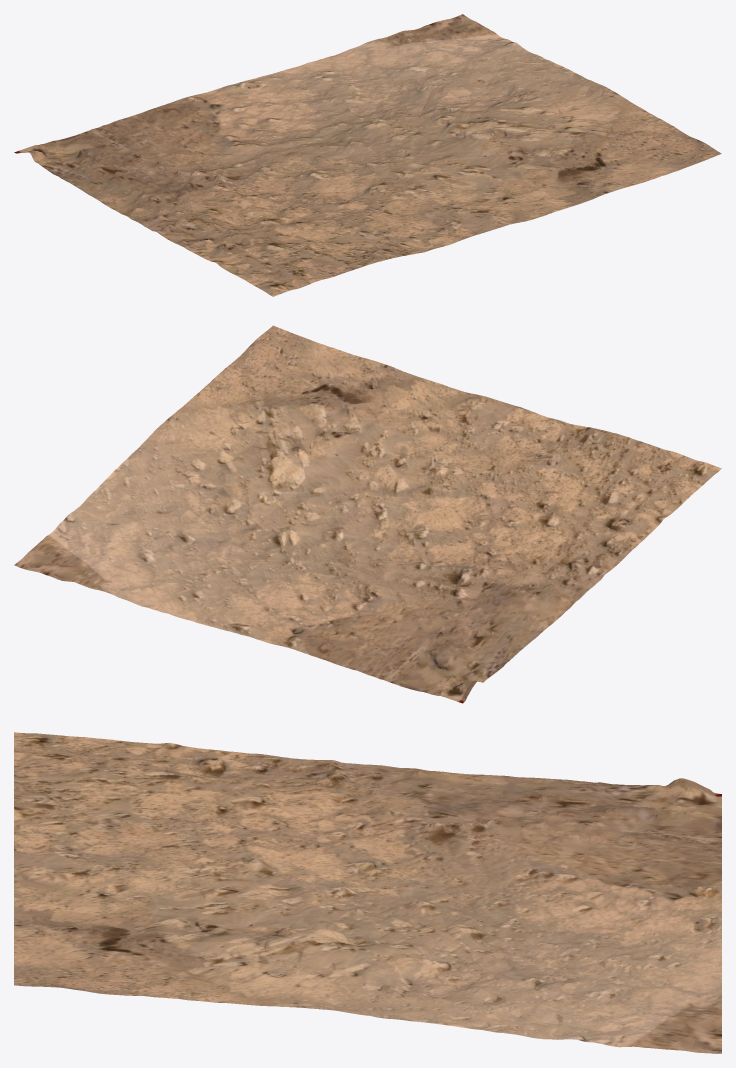
3 renders of one model, top to bottom at view 1: azimuth 30°, elevation 25°; view 2: azimuth 150°, elevation 25°; view 3: azimuth 270°, elevation 25°, orthographic. The views are drawn at different scales.
Bounding box in the file's own units: 8.36 × 1.4 × 8.36.
Materials: 3 (3 with a texture image).
